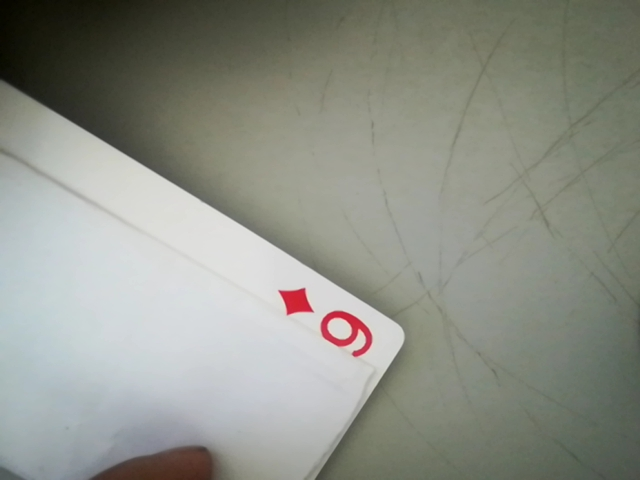fk 6: (269, 279, 389, 368)
